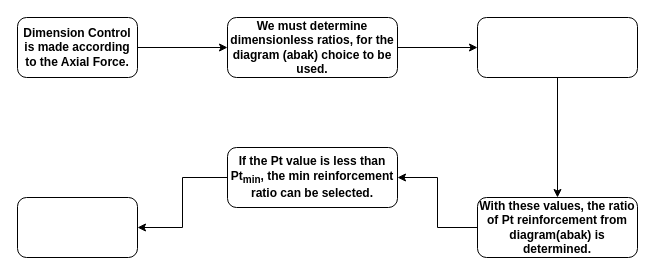
Some shapes in this 655 by 275 pixel diagram are drawn without their labels. Here are the shapes that lost their labels. From the top down, the centre of each, then its label:
At point (557, 47): "From the diagram (abak) Ψ = e / h value is determined.".
At point (77, 227): "Longitudinal reinforcement ratio and diameter are determined.".
